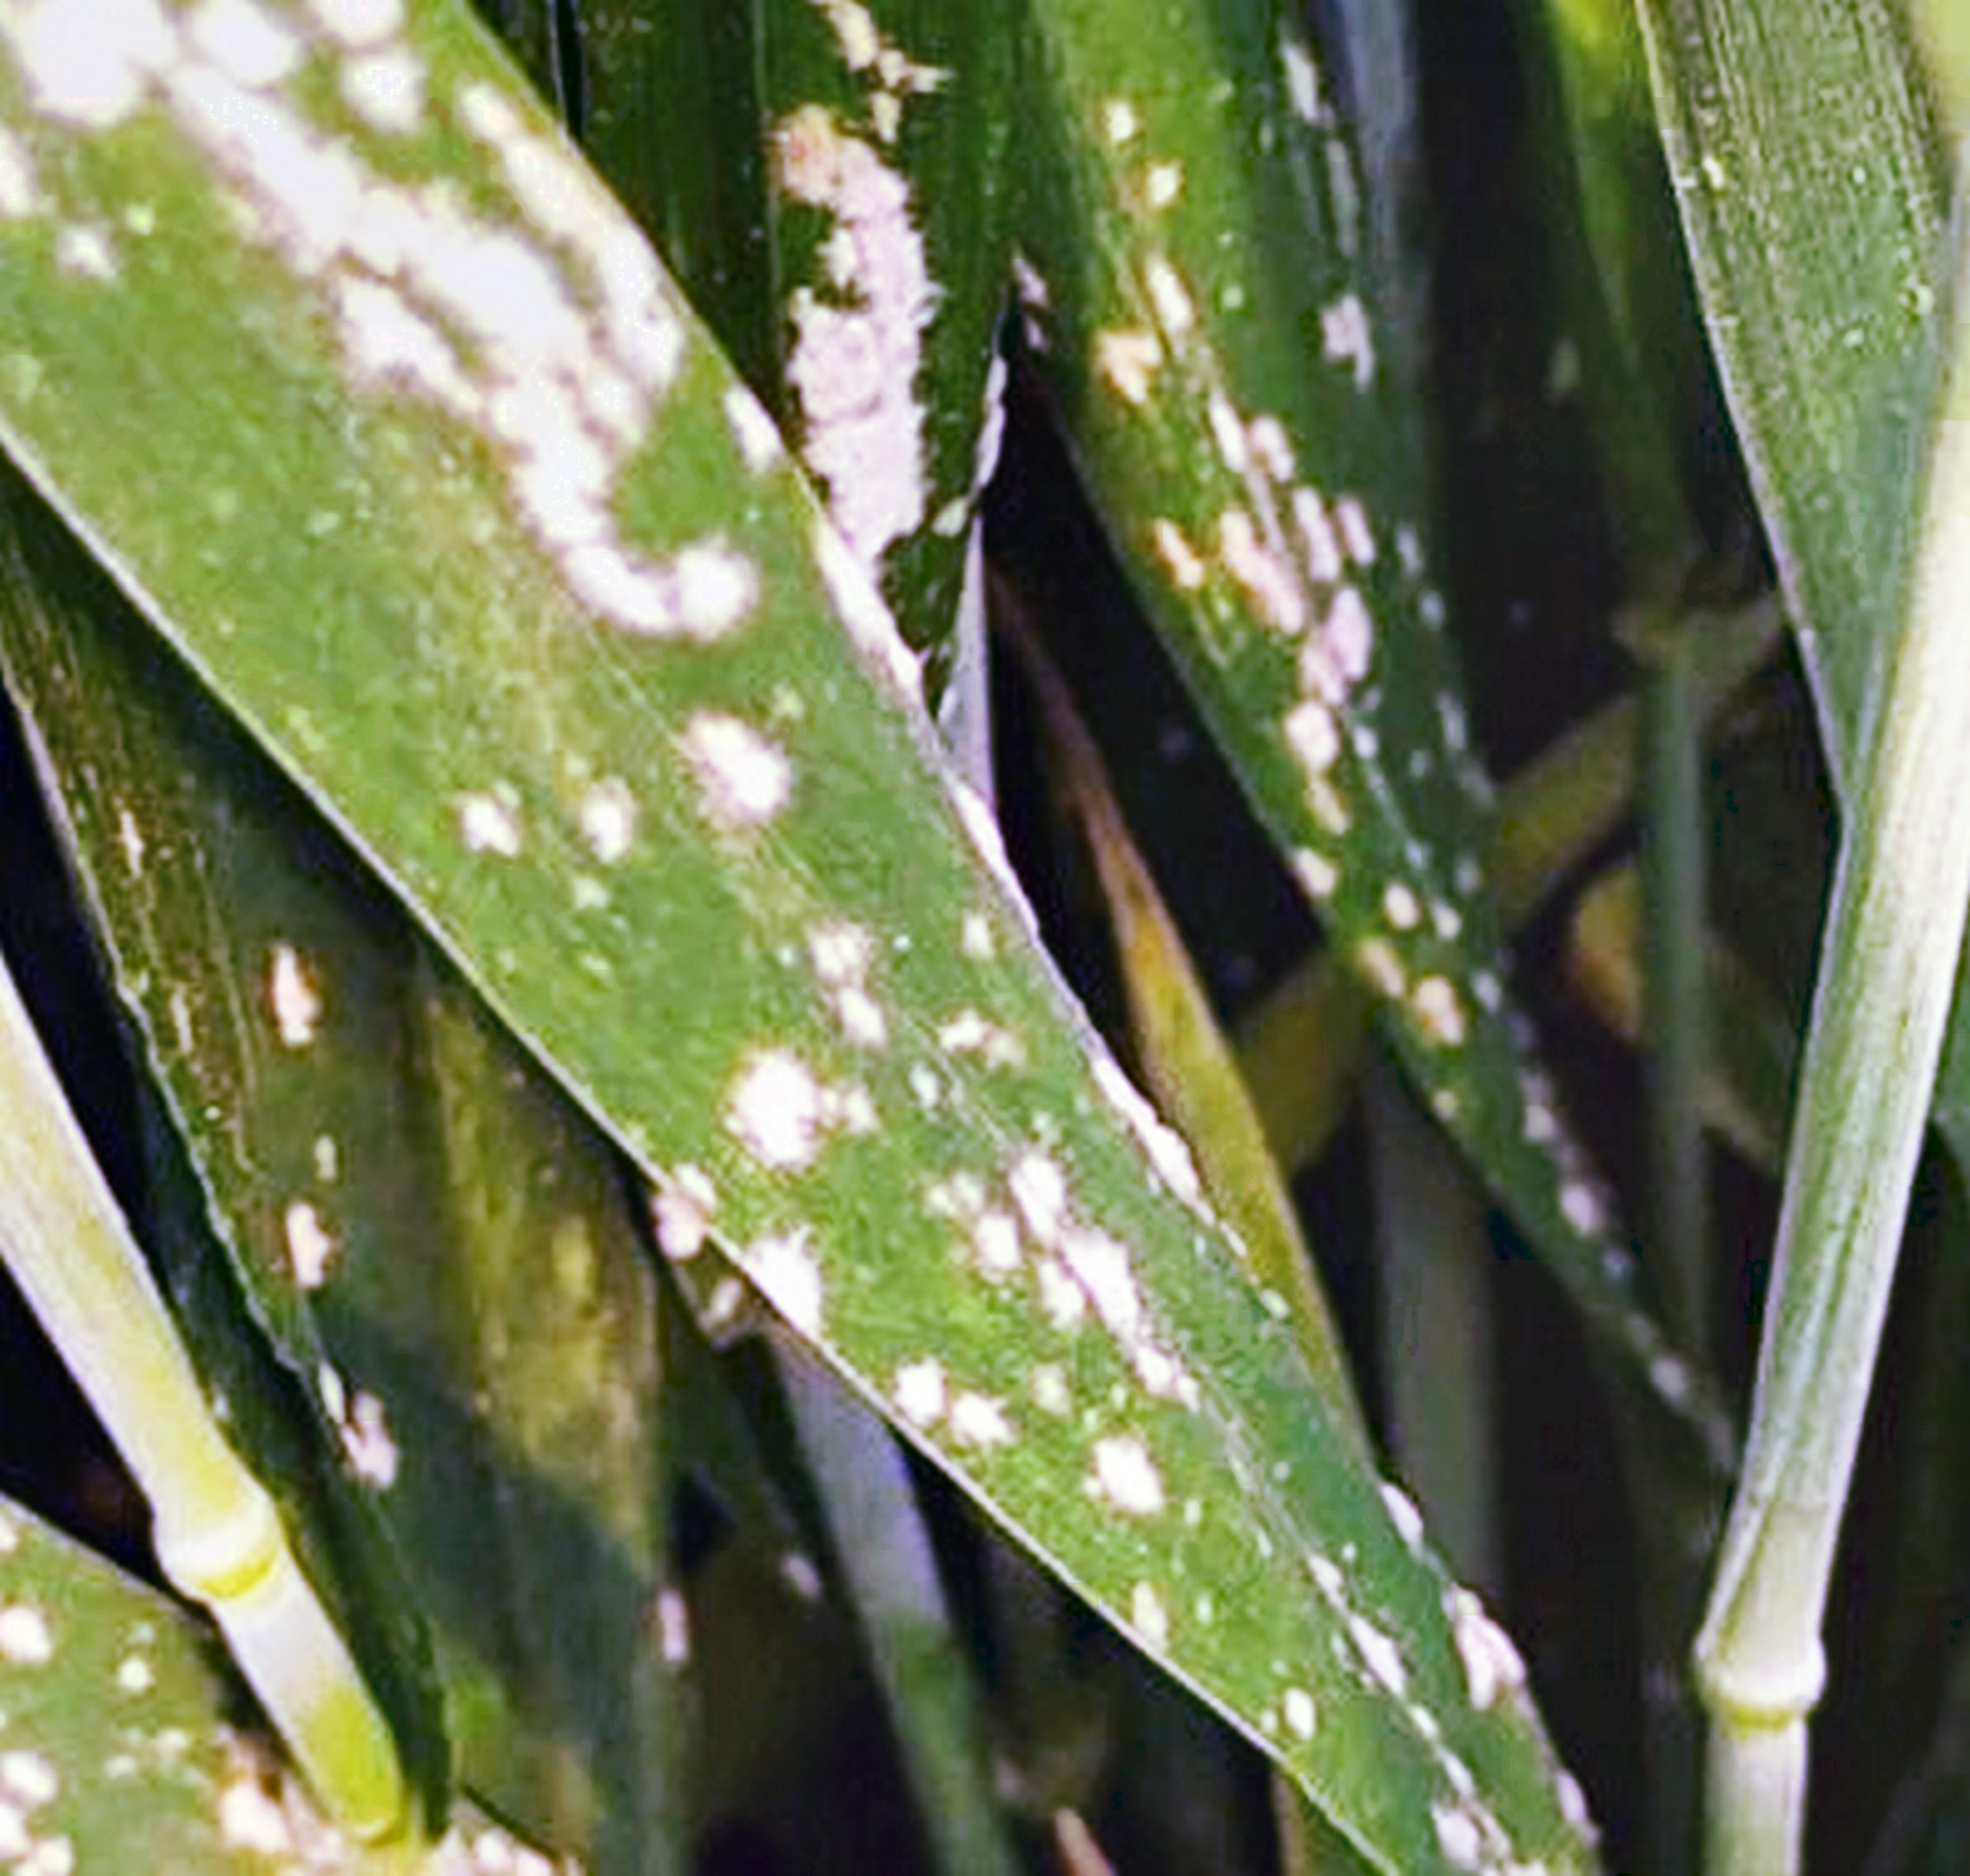Powdery Mildew: (368, 283, 1641, 1646)
